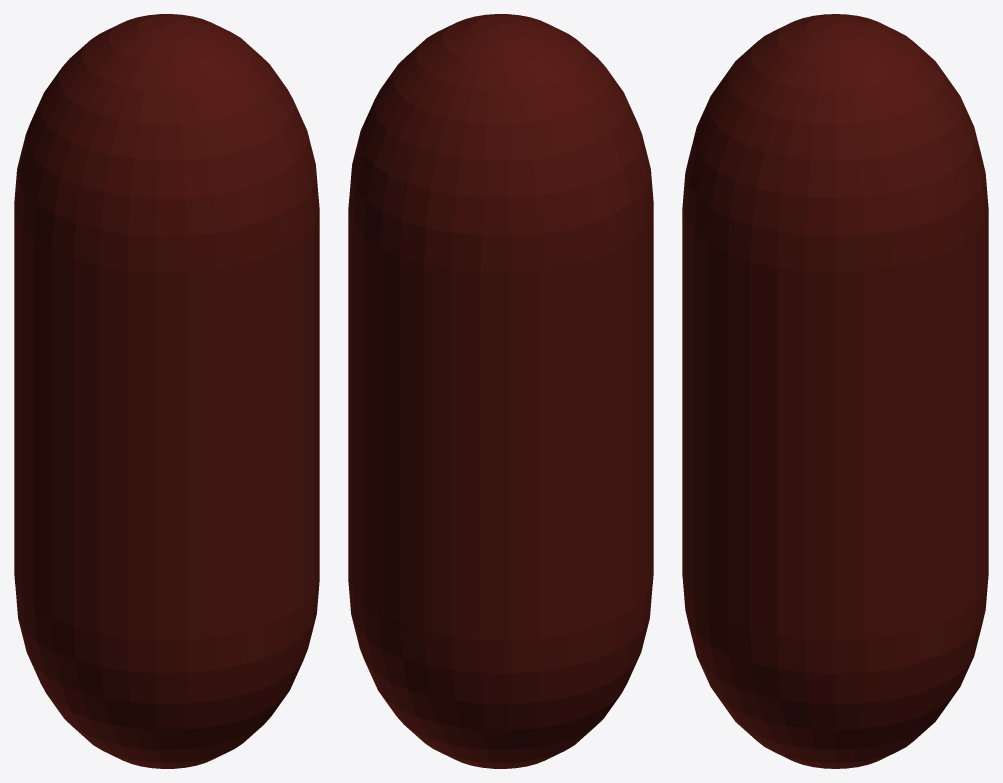
Rendered from kielbasa_01.gltf.
3 renders of one model, left to right at view 1: azimuth 30°, elevation 25°; view 2: azimuth 150°, elevation 25°; view 3: azimuth 270°, elevation 25°, orthographic.
Visible parts, largest first — view 1: kielbasa_01; view 2: kielbasa_01; view 3: kielbasa_01.
Boxes of the visible parts, bbox=[...] form: kielbasa_01: bbox=[14, 14, 319, 768]; kielbasa_01: bbox=[348, 14, 653, 768]; kielbasa_01: bbox=[682, 14, 988, 768].
Bounding box in the file's own units: 12.52 × 33.09 × 12.52.
